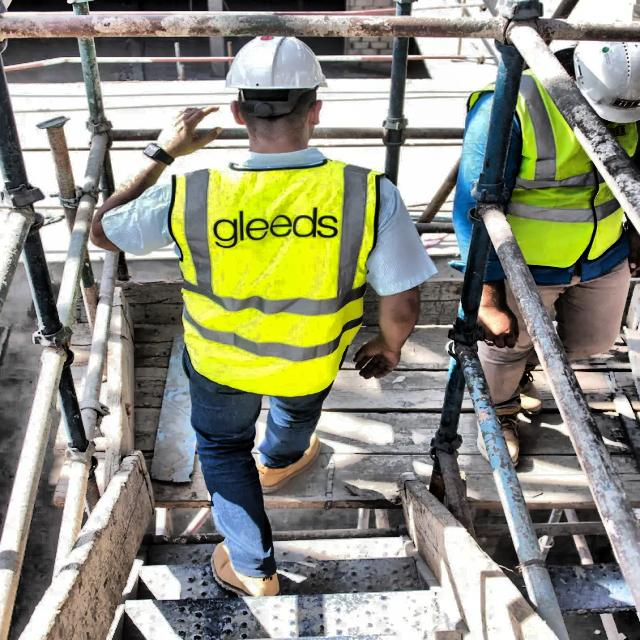safety_helmet: (565, 31, 640, 134), (222, 33, 330, 95)
safety_jacket: (167, 156, 386, 400), (461, 66, 638, 274)
